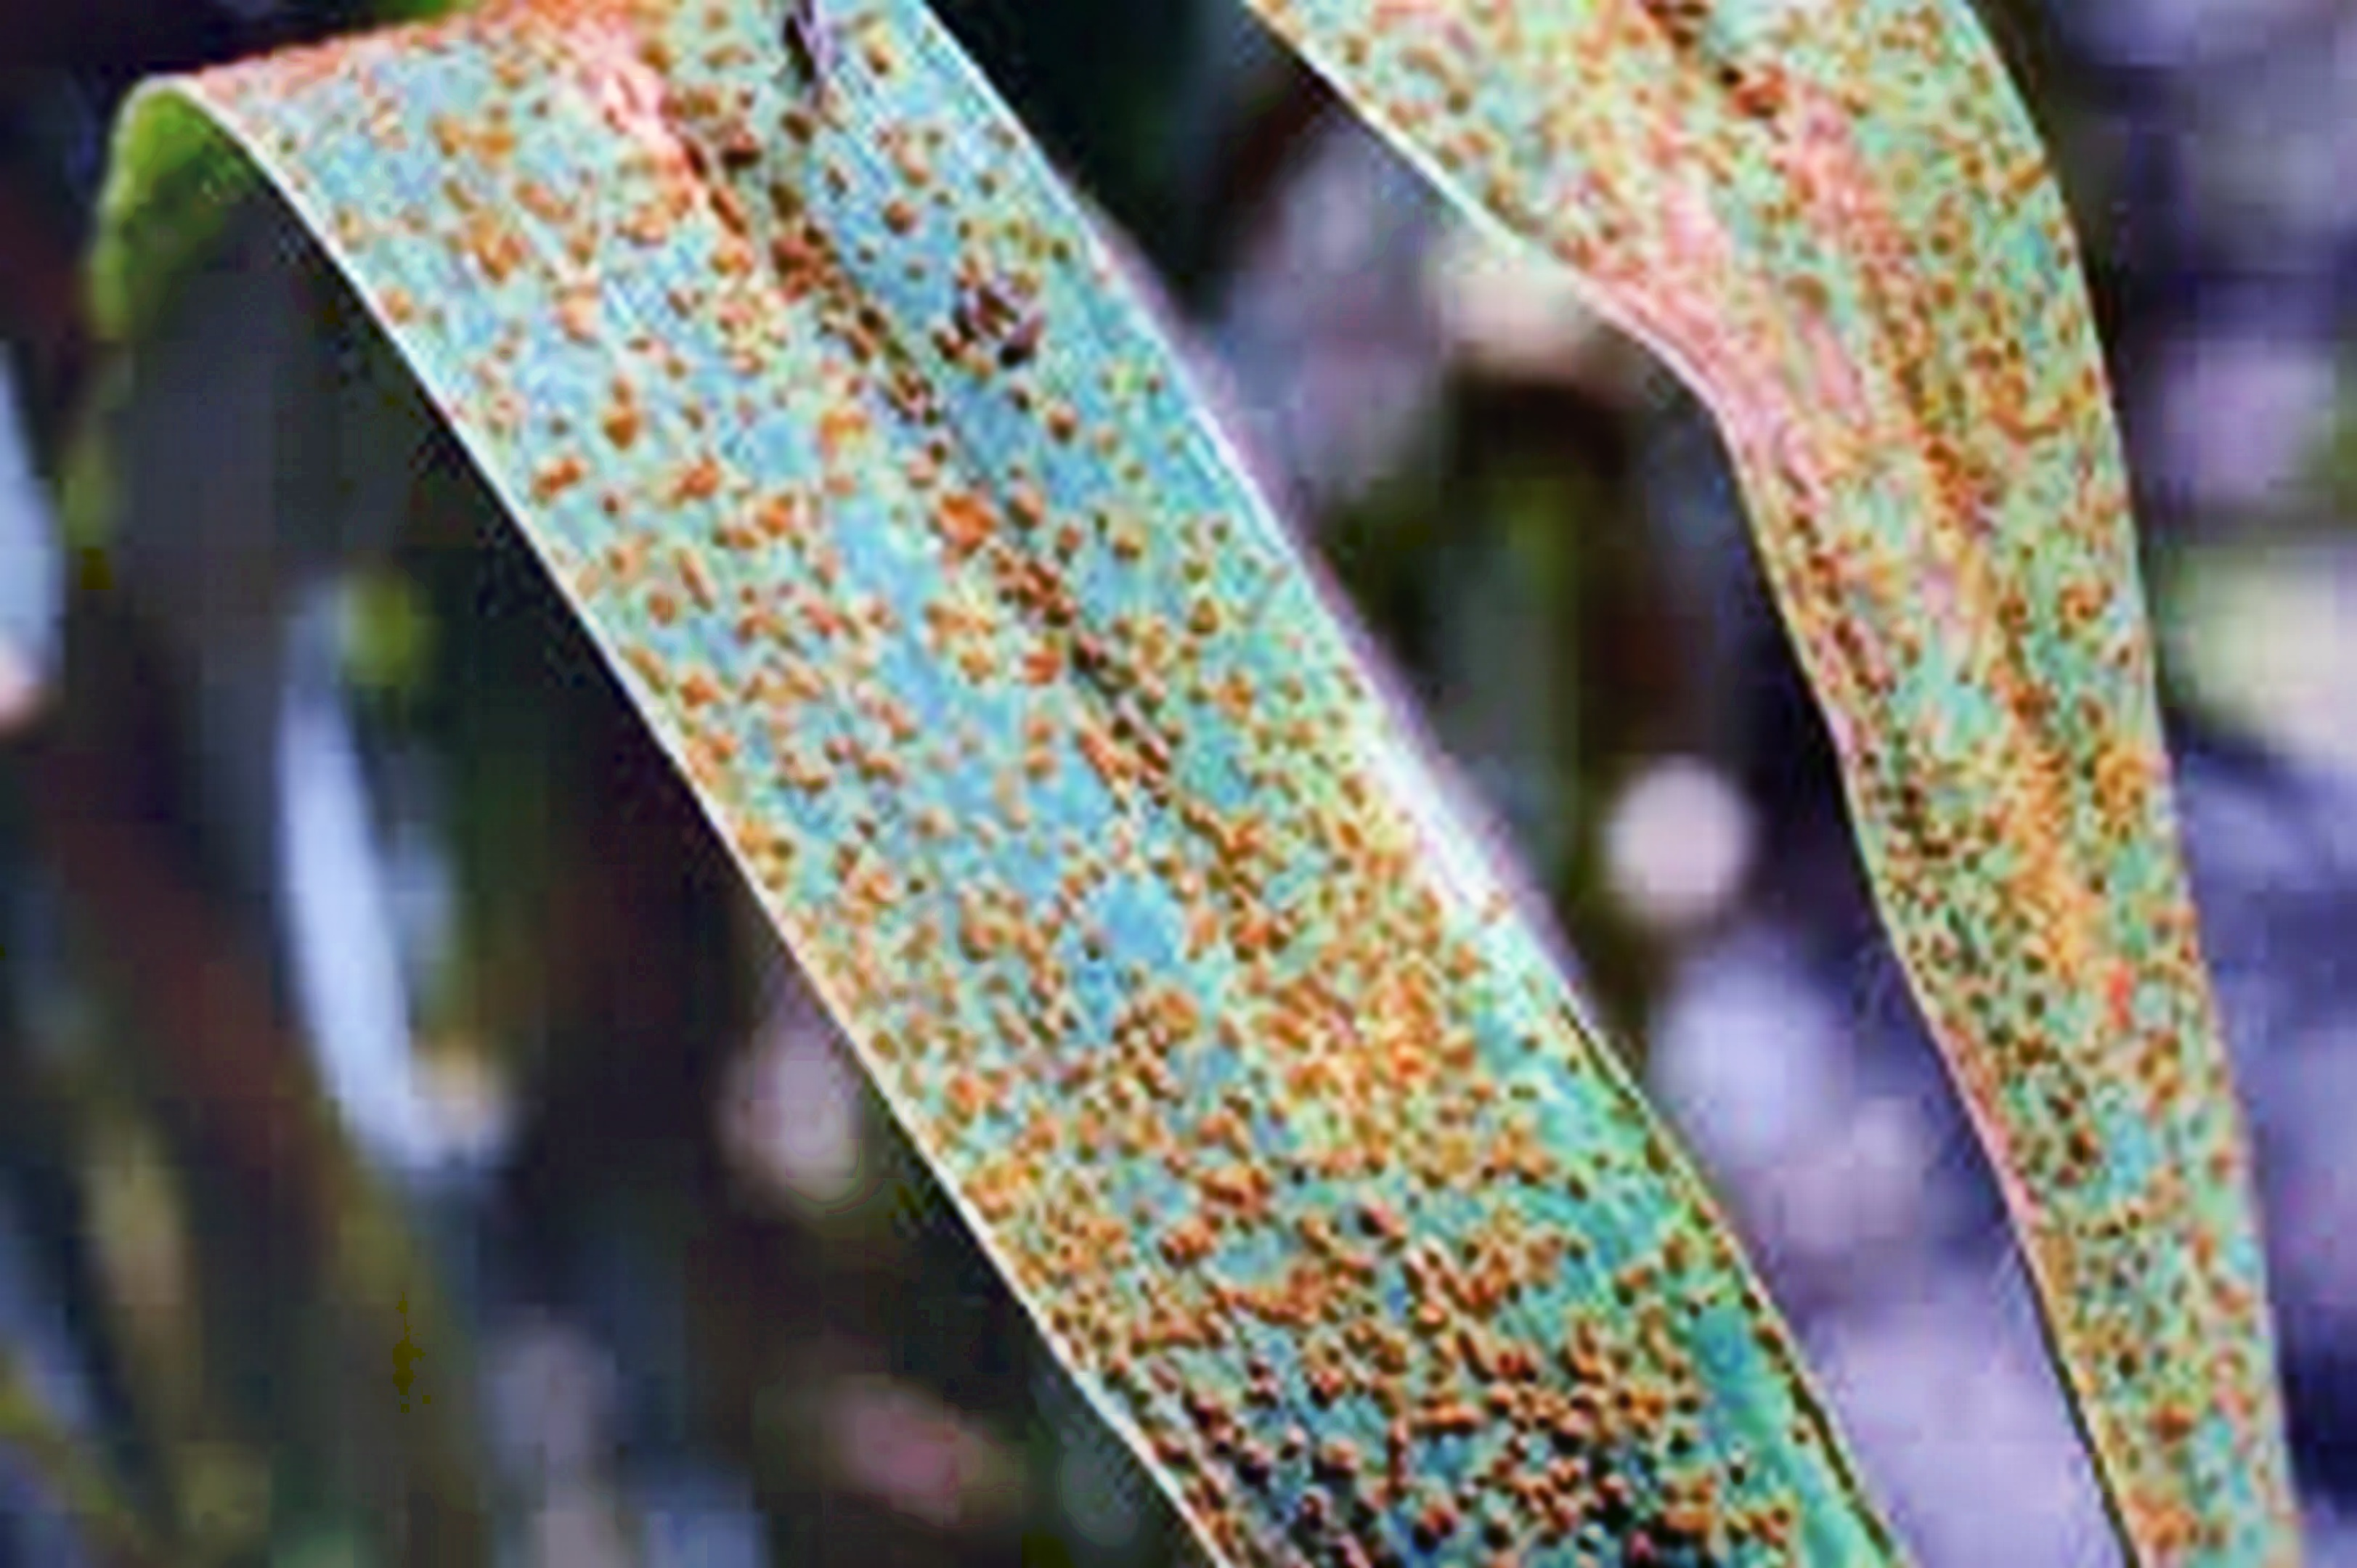Leaf Rust: (593, 241, 1620, 1435)
